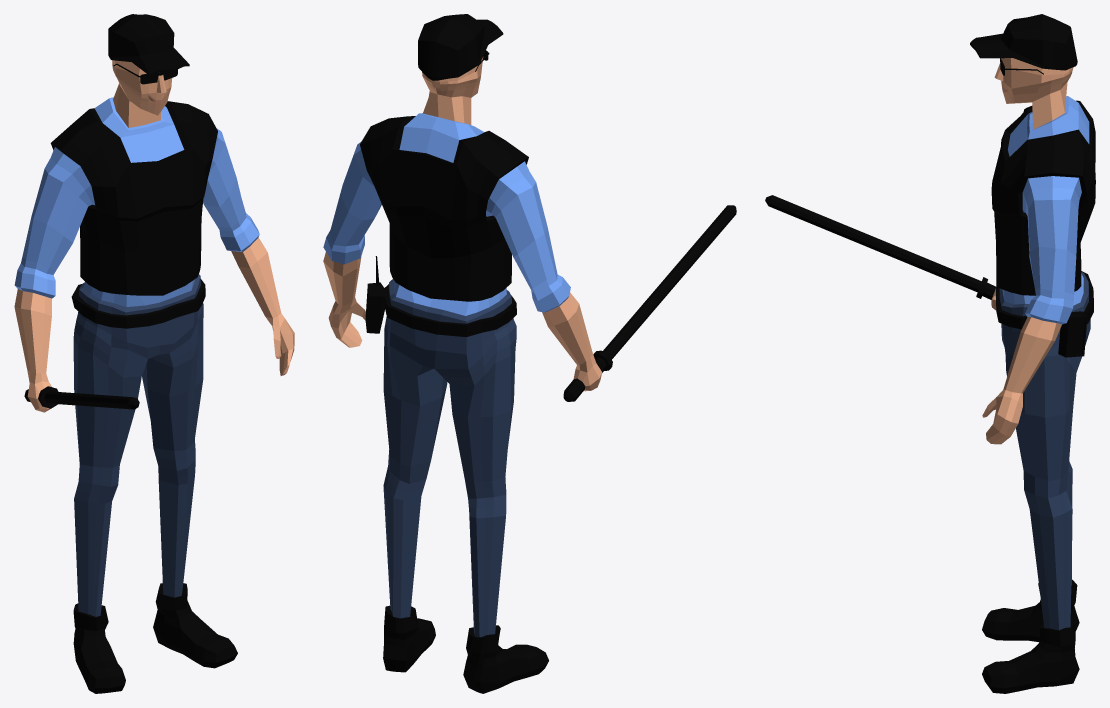
Rendered from Gate Guard.fbx.
The picture shows the model from 3 angles, left to right: view 1: azimuth 30°, elevation 25°; view 2: azimuth 150°, elevation 25°; view 3: azimuth 270°, elevation 25°; orthographic projection.
Parts seen in each view (by area): view 1: Object_7, Object_5, Object_2, Object_3, Object_6; view 2: Object_7, Object_5, Object_2, Object_3, Object_6; view 3: Object_2, Object_7, Object_5, Object_3, Object_6.
Part boxes in pixels (x1,y1,x2,y2): Object_7: [73, 274, 203, 616]; Object_5: [50, 101, 217, 295]; Object_2: [24, 14, 237, 693]; Object_3: [14, 97, 259, 306]; Object_6: [14, 60, 294, 412]; Object_7: [383, 279, 516, 637]; Object_5: [360, 116, 528, 301]; Object_2: [365, 14, 736, 693]; Object_3: [323, 113, 570, 315]; Object_6: [323, 56, 601, 391]; Object_2: [765, 14, 1093, 693]; Object_7: [999, 271, 1090, 630]; Object_5: [991, 100, 1095, 295]; Object_3: [1002, 96, 1089, 324]; Object_6: [982, 58, 1073, 444].
Bounding box in the file's own units: 83.14 × 181 × 84.16.
